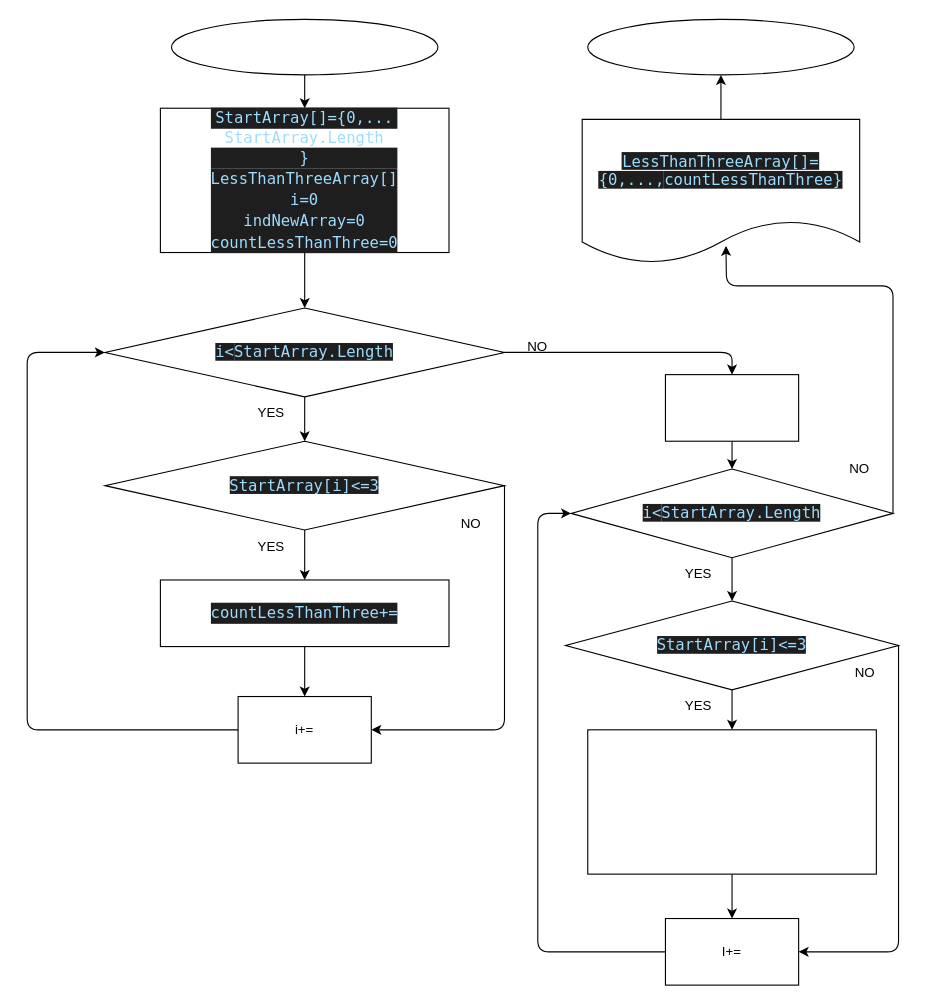
Image size: 927x1005. Some labels were removed from this diagram. The shapes that lost their labels are listed below. From the top down, each one's centre as x and y in pixels, then its label:
the point at 304,46: Start
the point at 720,46: END
the point at 731,407: i=0
the point at 731,801: LessThanThreeArray[ indNewArray ]= StartArray[i] indNewArray+=
